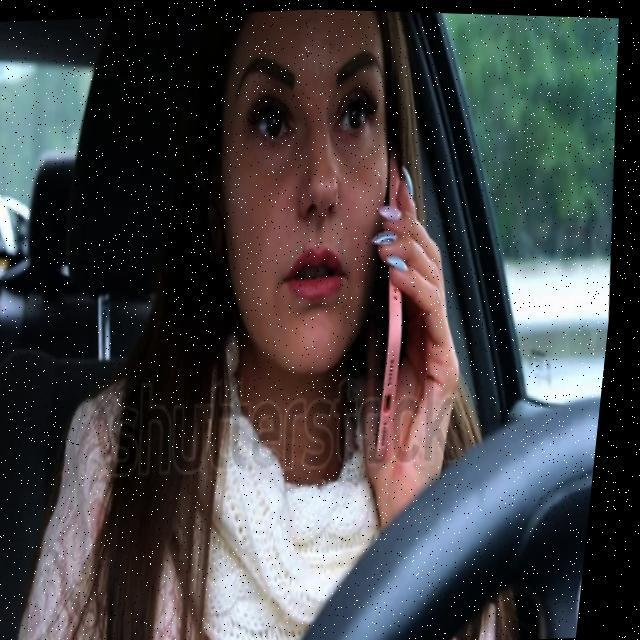PhoneCall: (352, 125, 440, 458)
